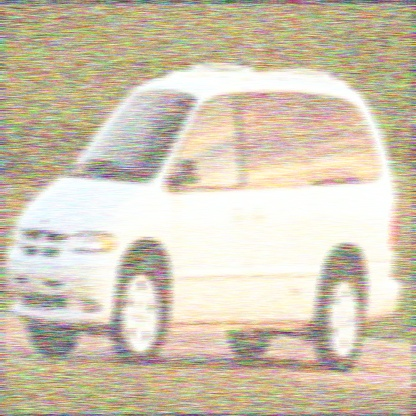Vehicle: (7, 62, 404, 372)
